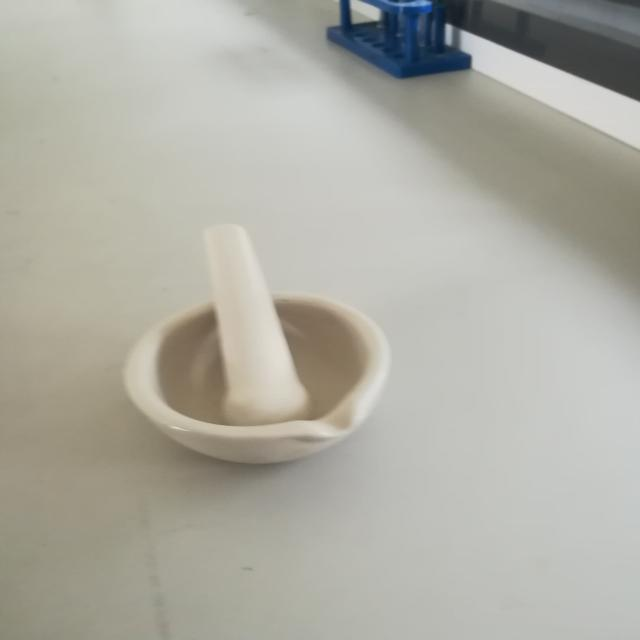Porcelain_Mortar Pestle: (65, 168, 425, 480)
